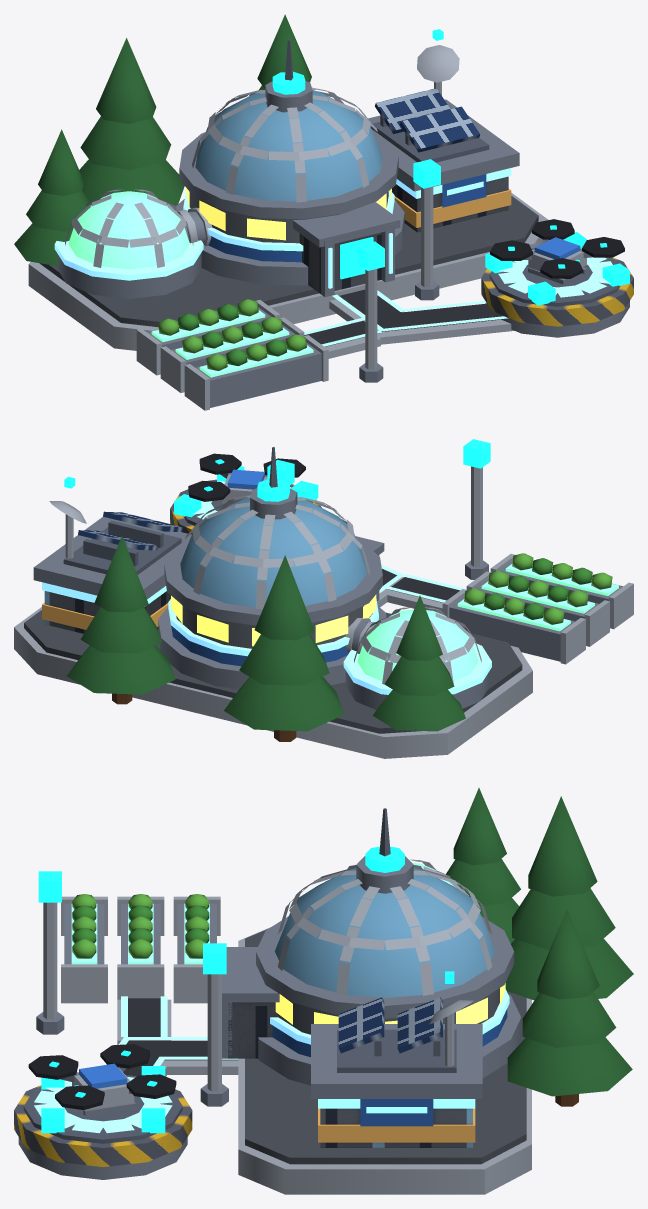
Rendered from homestead_scifi_blue.glb.
3 renders of one model, top to bottom at view 1: azimuth 30°, elevation 25°; view 2: azimuth 150°, elevation 25°; view 3: azimuth 270°, elevation 25°, orthographic. The views are drawn at different scales.
Parts seen in each view (by area): view 1: homestead_scifi_blue; view 2: homestead_scifi_blue; view 3: homestead_scifi_blue.
Boxes of the visible parts, <box> form: homestead_scifi_blue: <box>14,14,633,410</box>; homestead_scifi_blue: <box>14,439,633,758</box>; homestead_scifi_blue: <box>14,788,633,1194</box>.
Bounding box in the file's own units: 0.5118 × 0.246 × 0.528.
5 materials, 1 textured.
